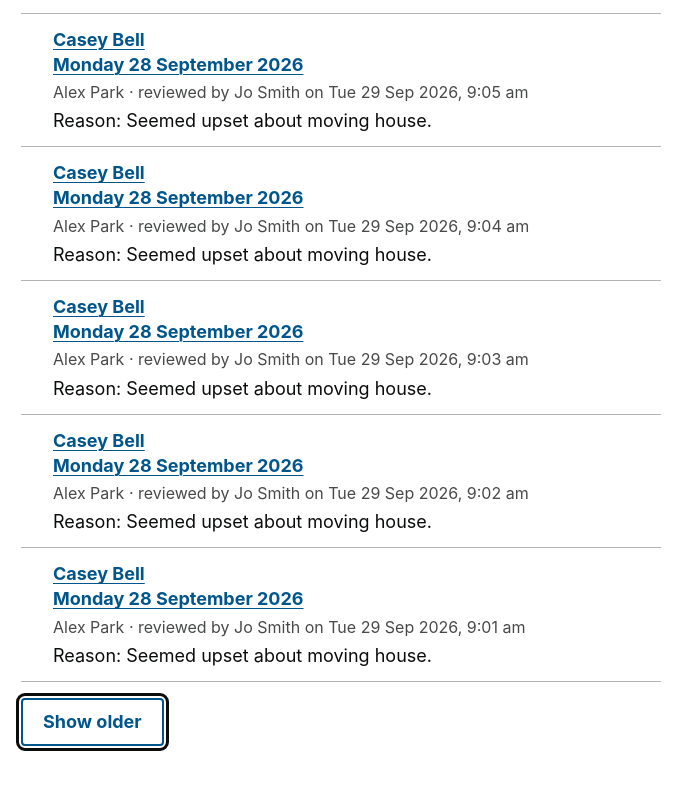
the Reviewed list › adds a page at the last review's time and ID when Show older is pressed, to 61 rows once each
(page scrolled)
Click the button "Show older" at (92, 722), box [21, 698, 164, 746]
Wait 1 ms
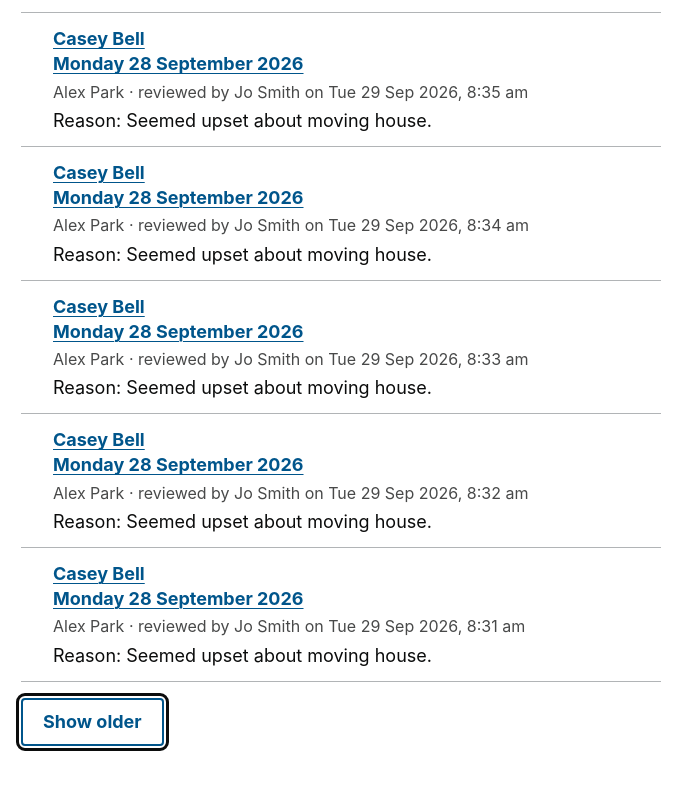
Click the button "Show older" at (92, 722), box [21, 698, 164, 746]
Wait 1 ms
(page scrolled)
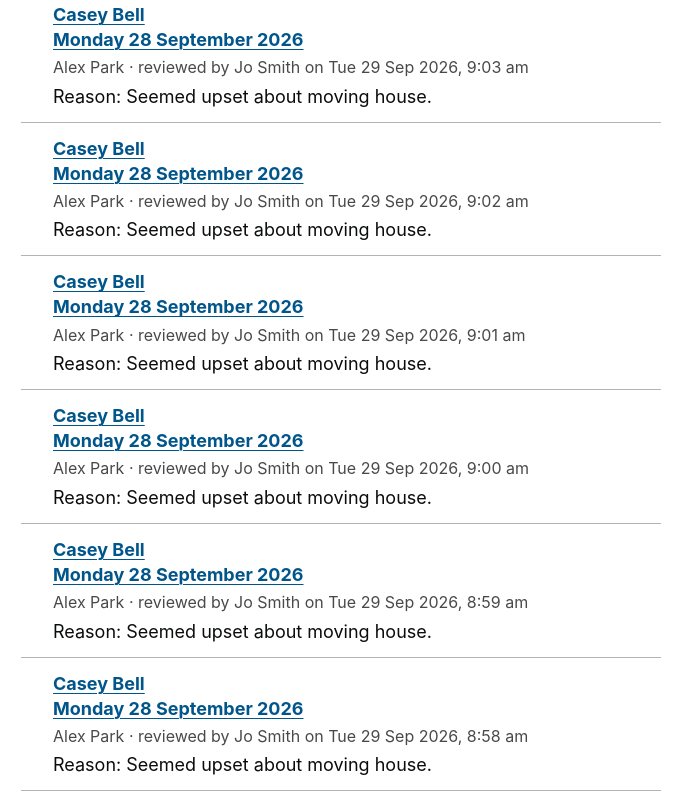
Expected: the button "Show older" is gone
